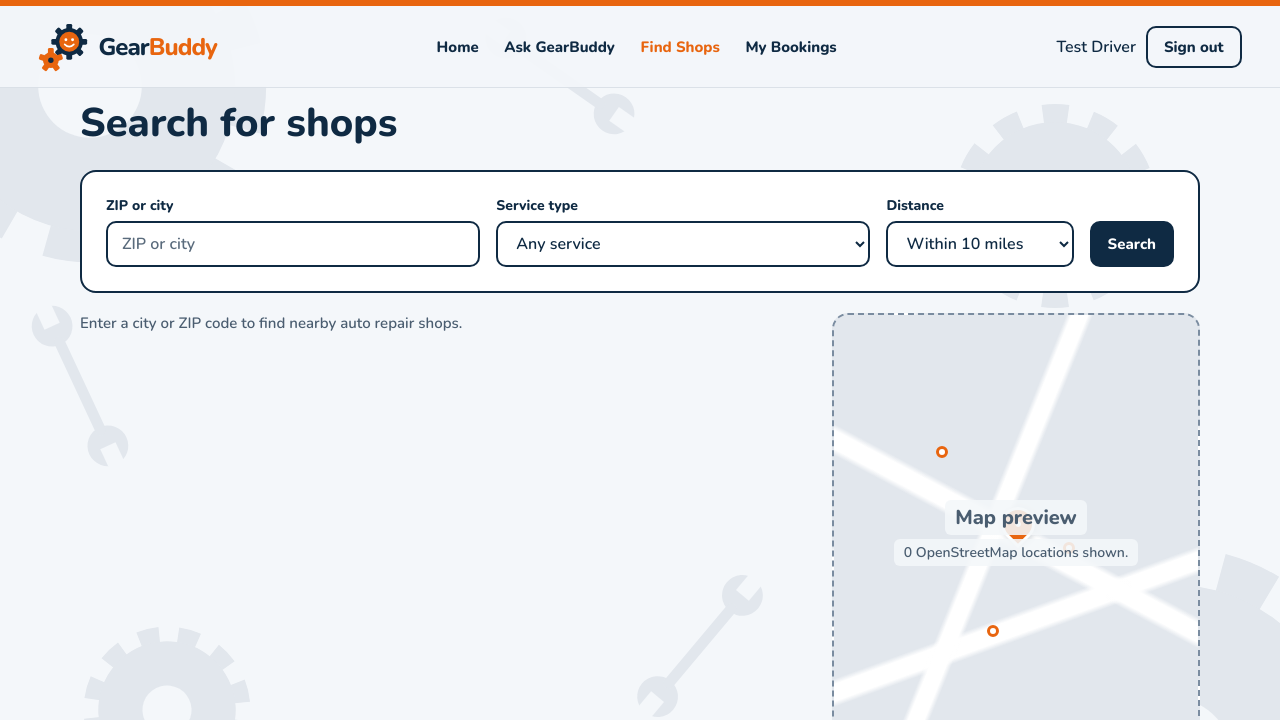
Test: GearBuddy screens › searches OpenStreetMap listings and shows repair shops
This screenshot has width=1280, height=720.
In the search field labelled "ZIP or city": (293, 244) [106,221,480,267], type "Denver"
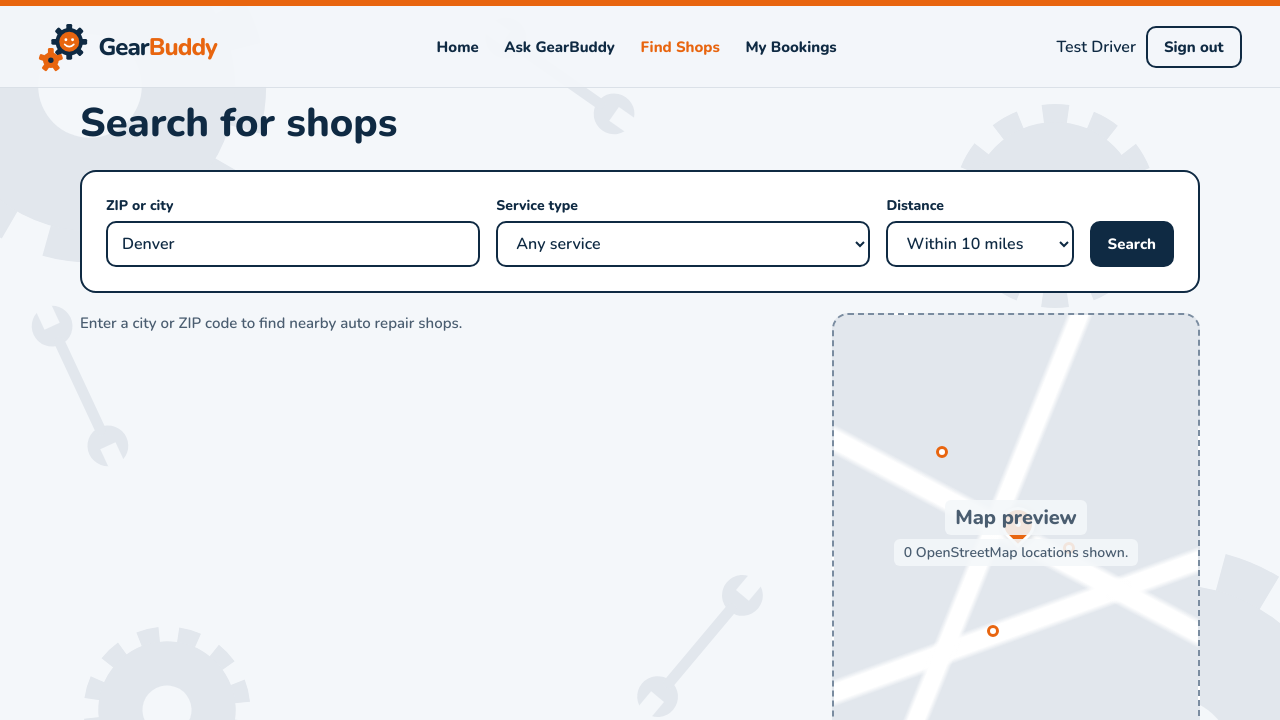
Submit the form named "Search shops", box [80,170,1200,293]
(page scrolled)
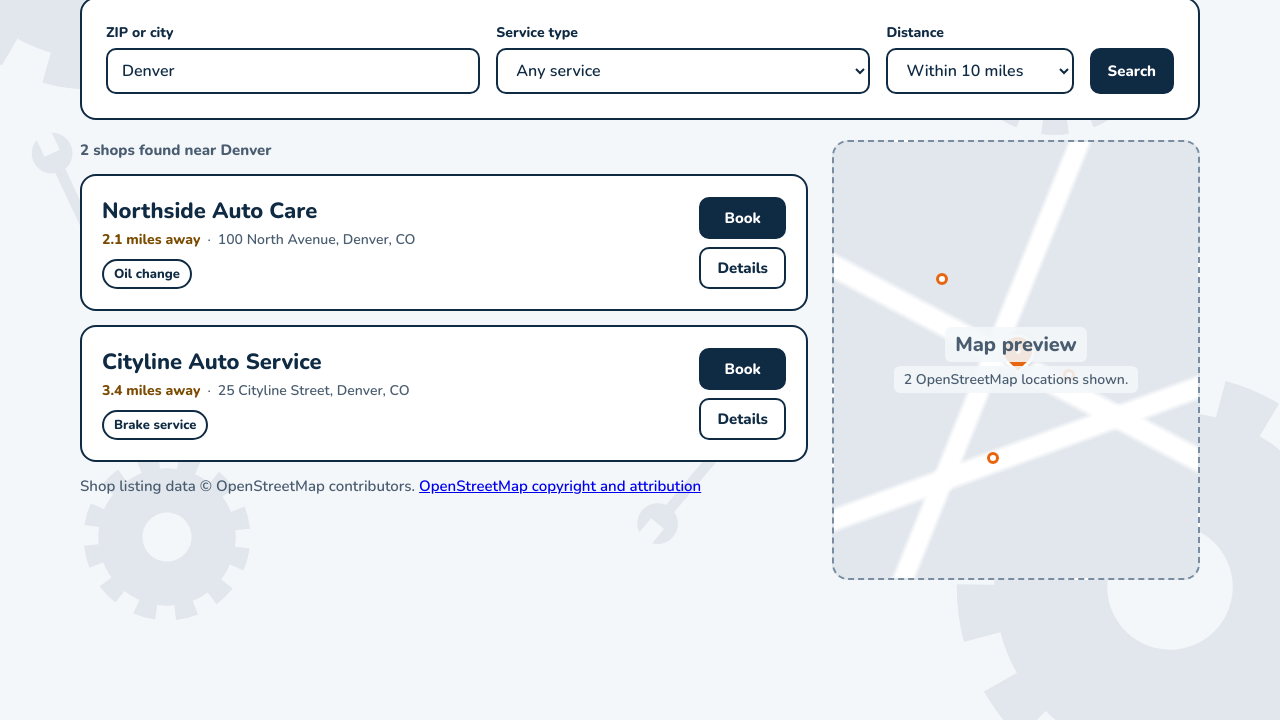
Expected: the element labelled "Map preview" is shown, [832,140,1200,580]
Result: the heading "Northside Auto Care" is shown at [102,196,317,226]
Result: the heading "Cityline Auto Service" is shown at [102,347,322,377]
